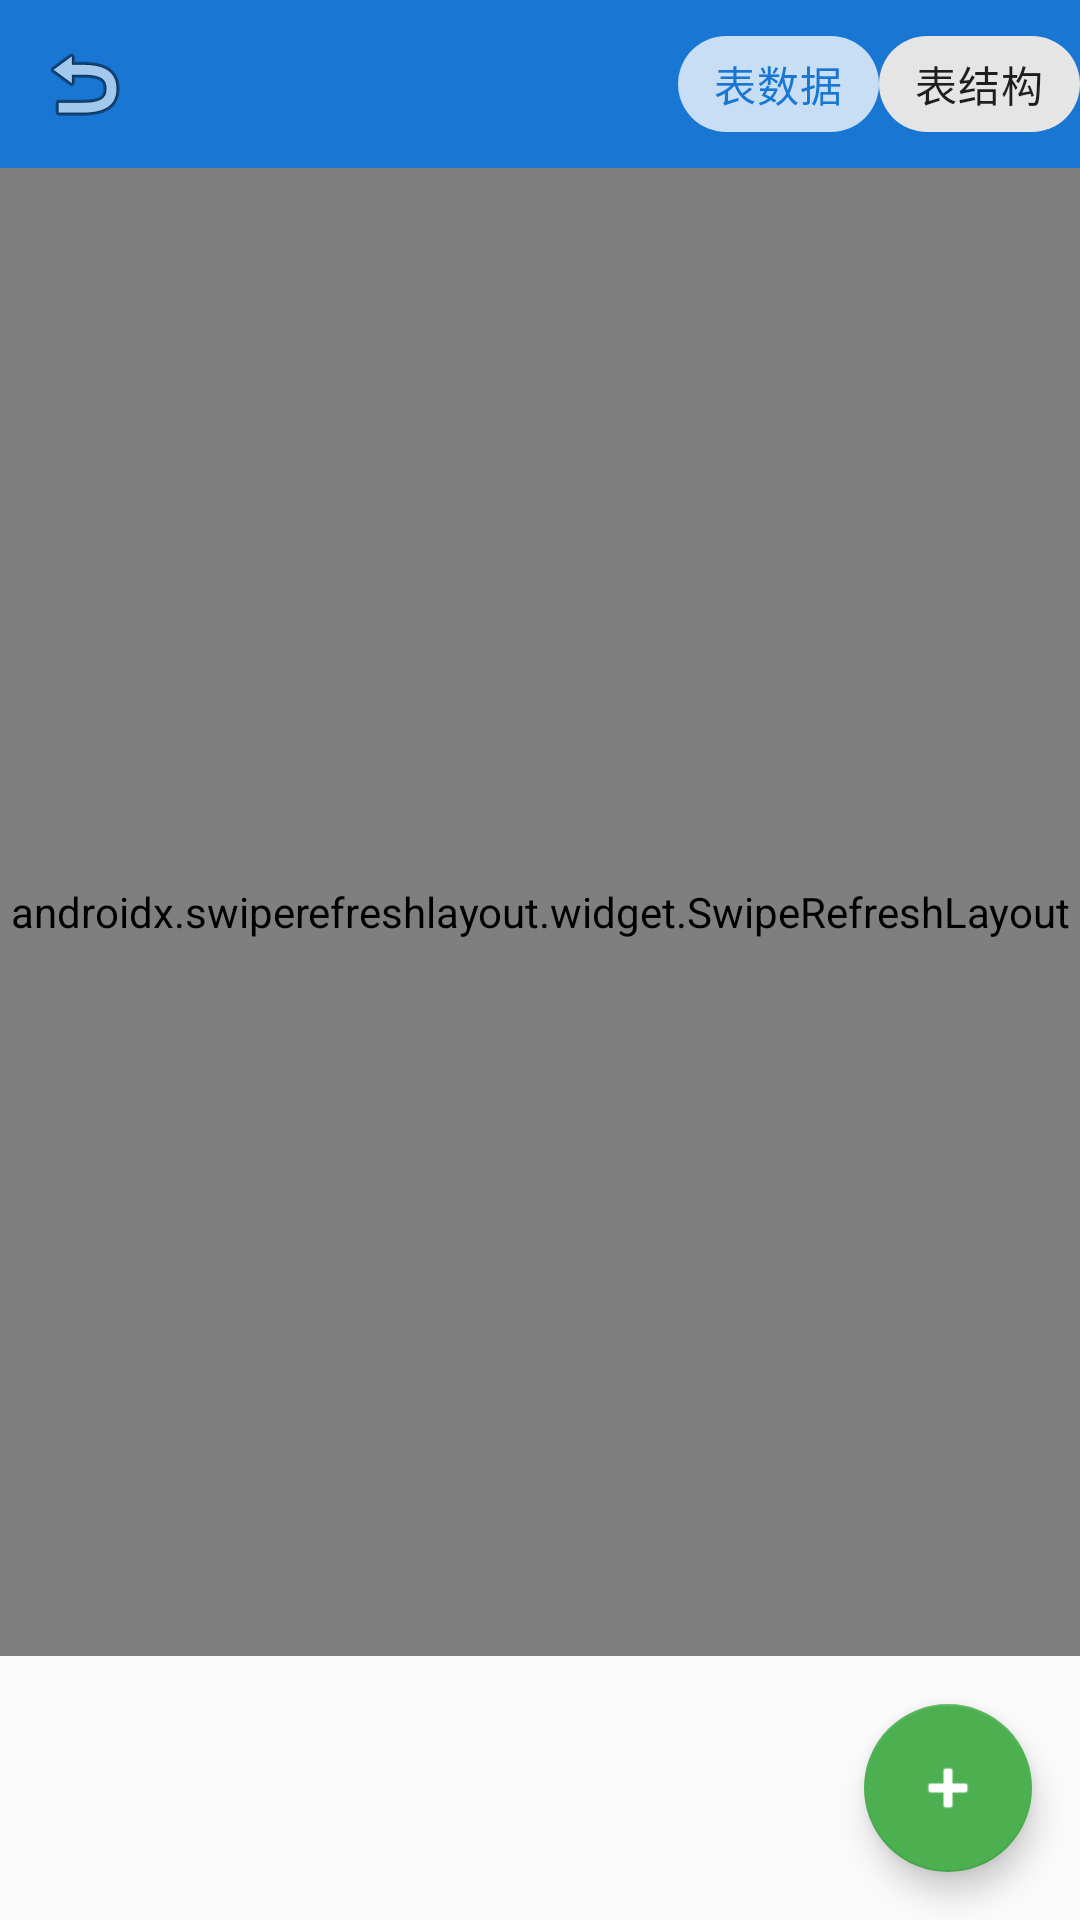

Icons on this 1080px x 1920px Android screen, each with the point to tap as (x=x, y=y):
添加行: (x=948, y=1788)
